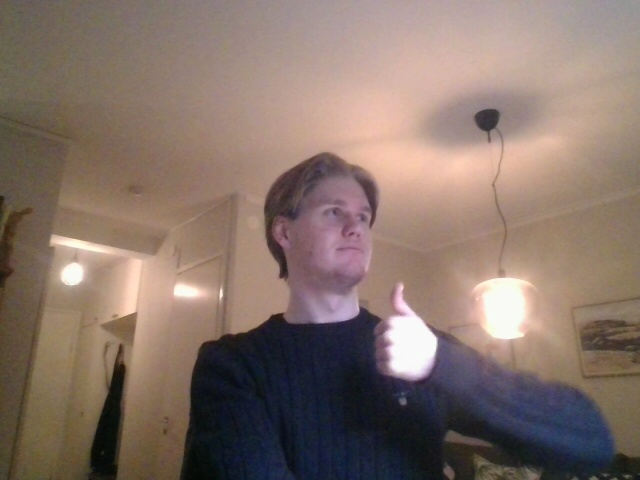ThumbsUp: (372, 280, 429, 384)
